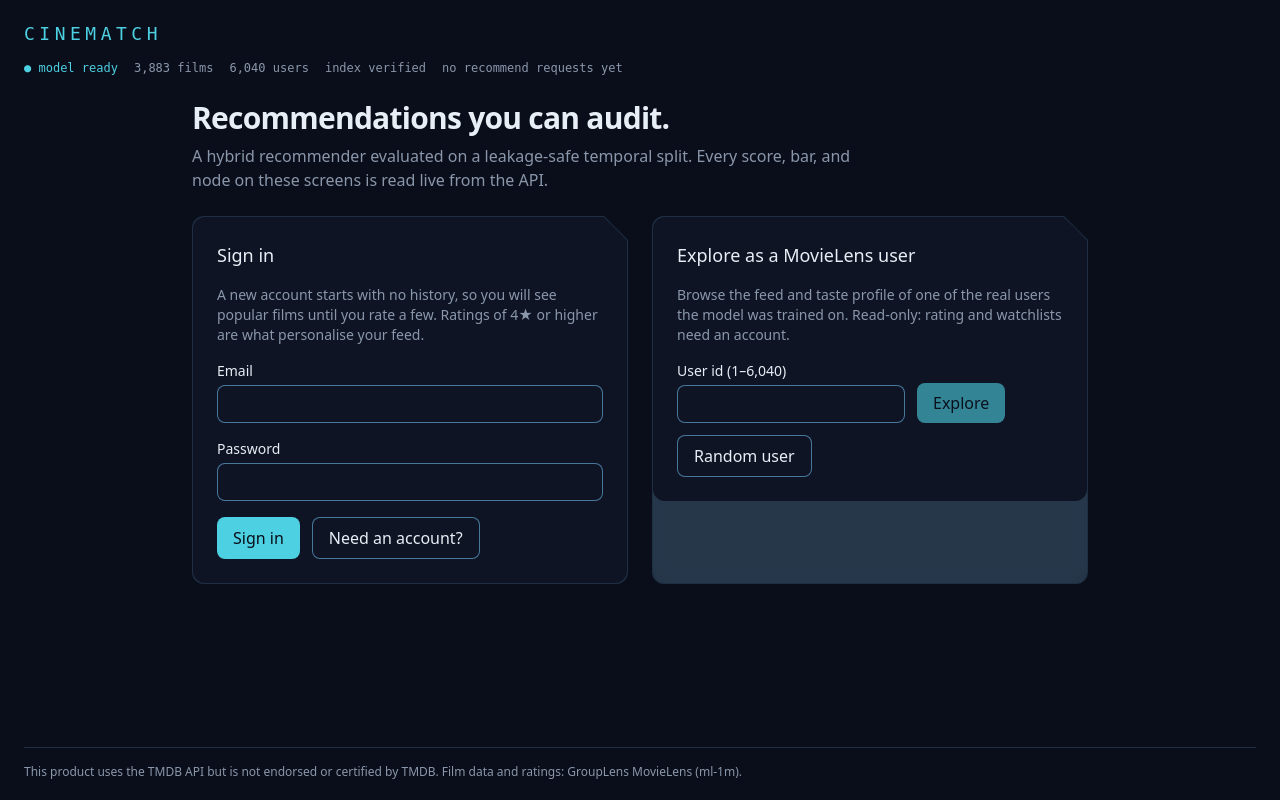
Scenario: Session › refuses an unknown MovieLens user with a clear message
Type "99999" into the field labelled "User id (1–6,040)".
click(791, 404); type("99999")  # box [677,385,905,423]
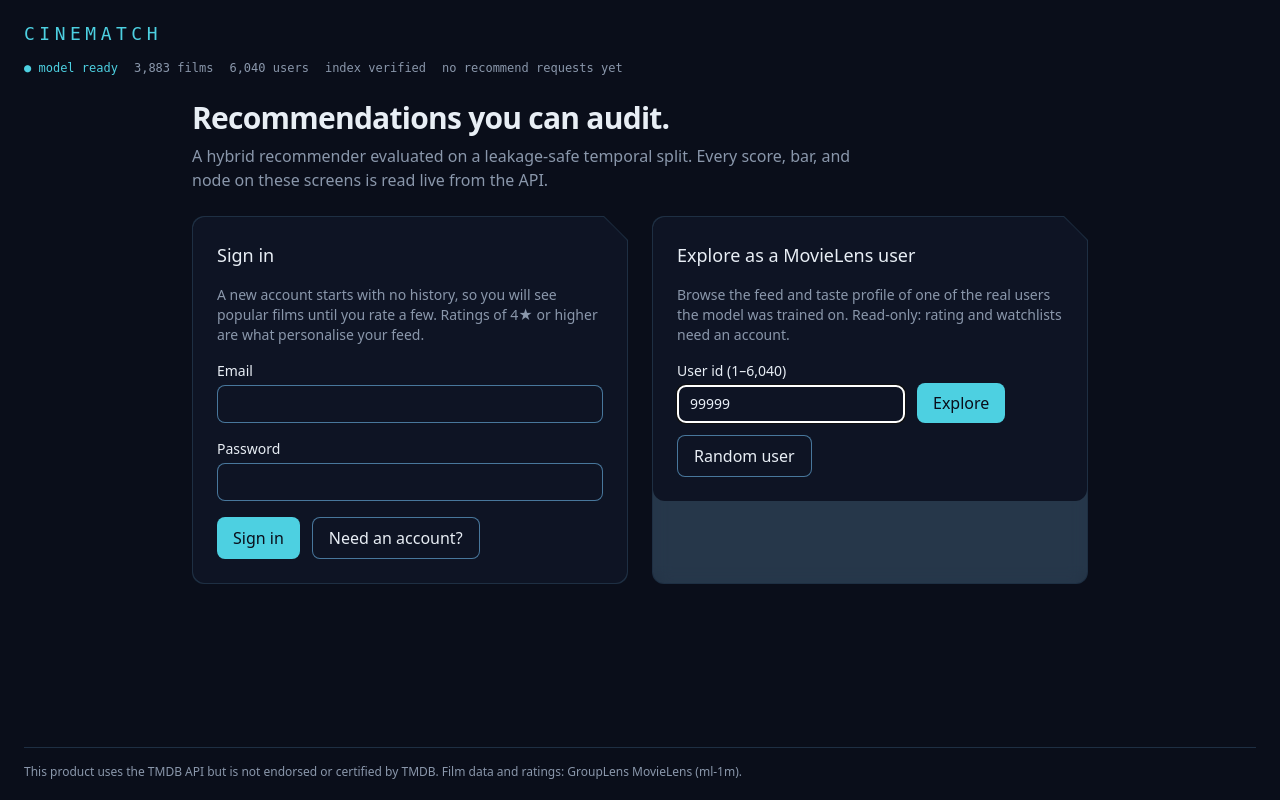
Click the button "Explore".
click(961, 403)  # box [917,383,1005,423]
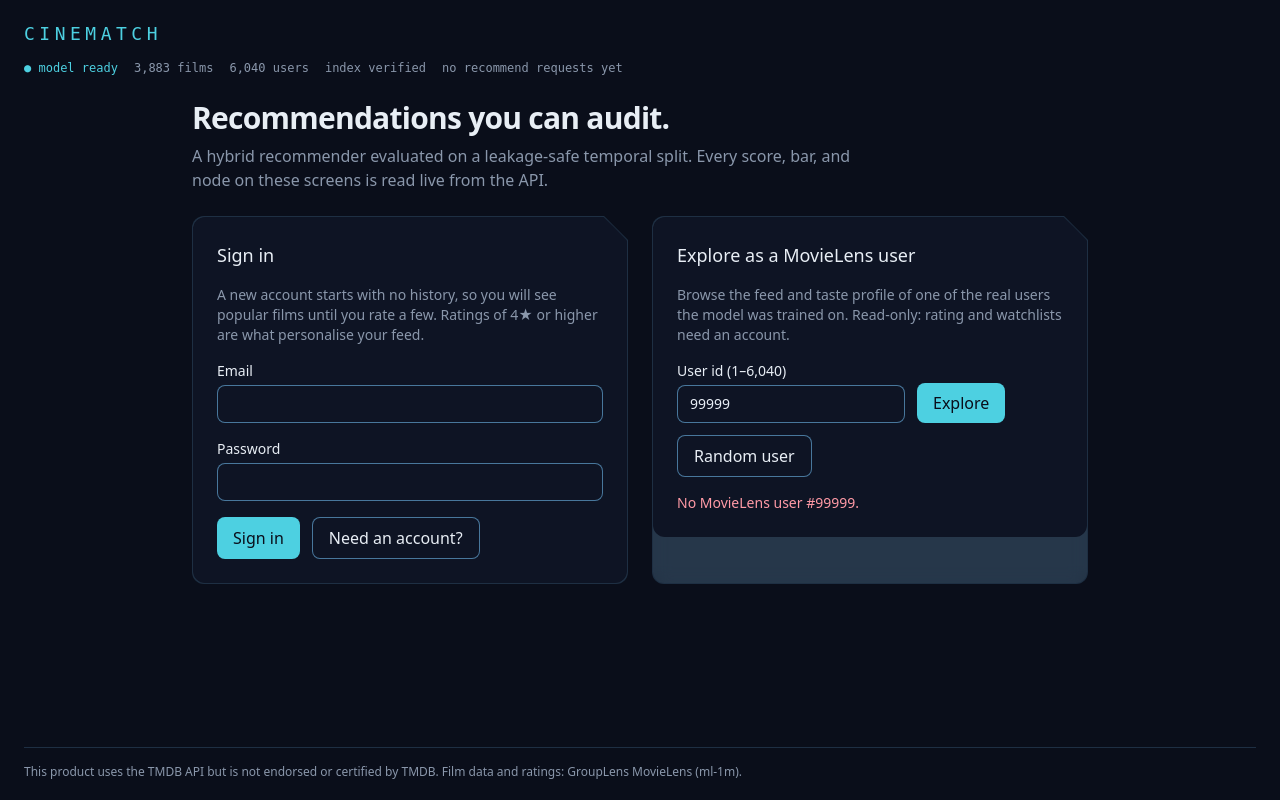
Expected: the text "No MovieLens user #99999." is shown, [677,493,859,512]
